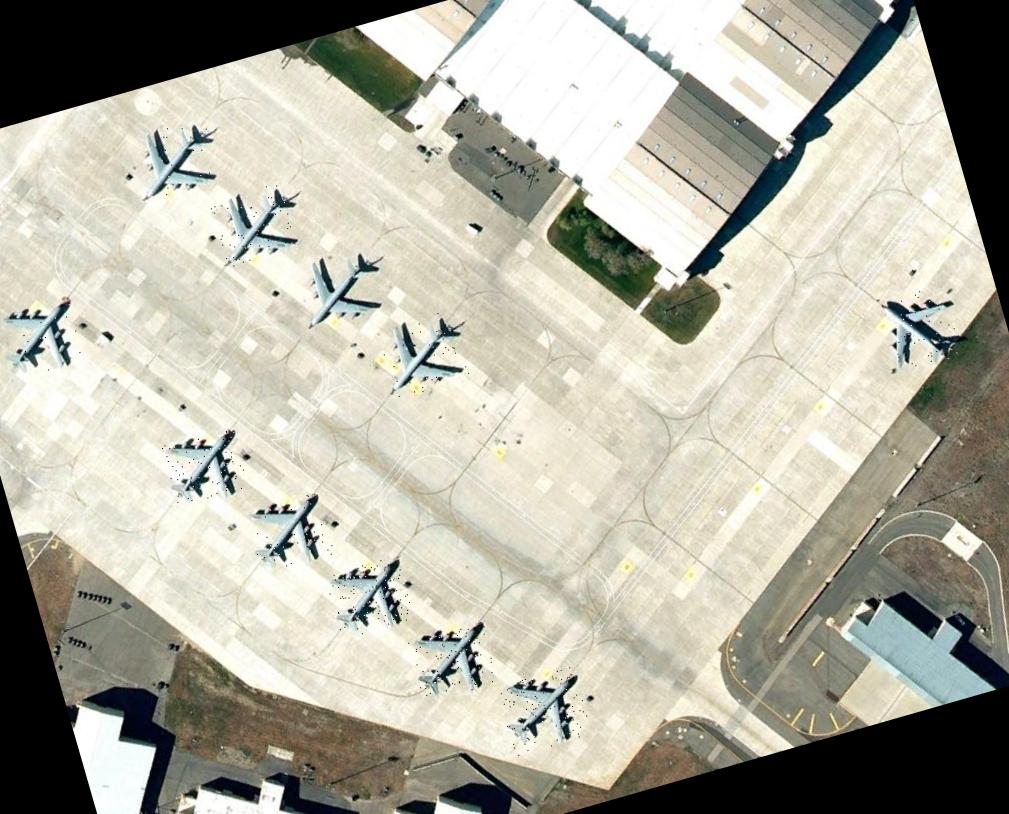A14: (494, 664, 592, 756), (374, 308, 470, 400), (126, 113, 222, 203), (876, 282, 966, 374), (405, 620, 500, 705), (292, 244, 381, 332), (244, 490, 334, 575), (208, 183, 297, 268), (324, 556, 414, 640), (0, 295, 86, 380), (160, 426, 249, 507)
